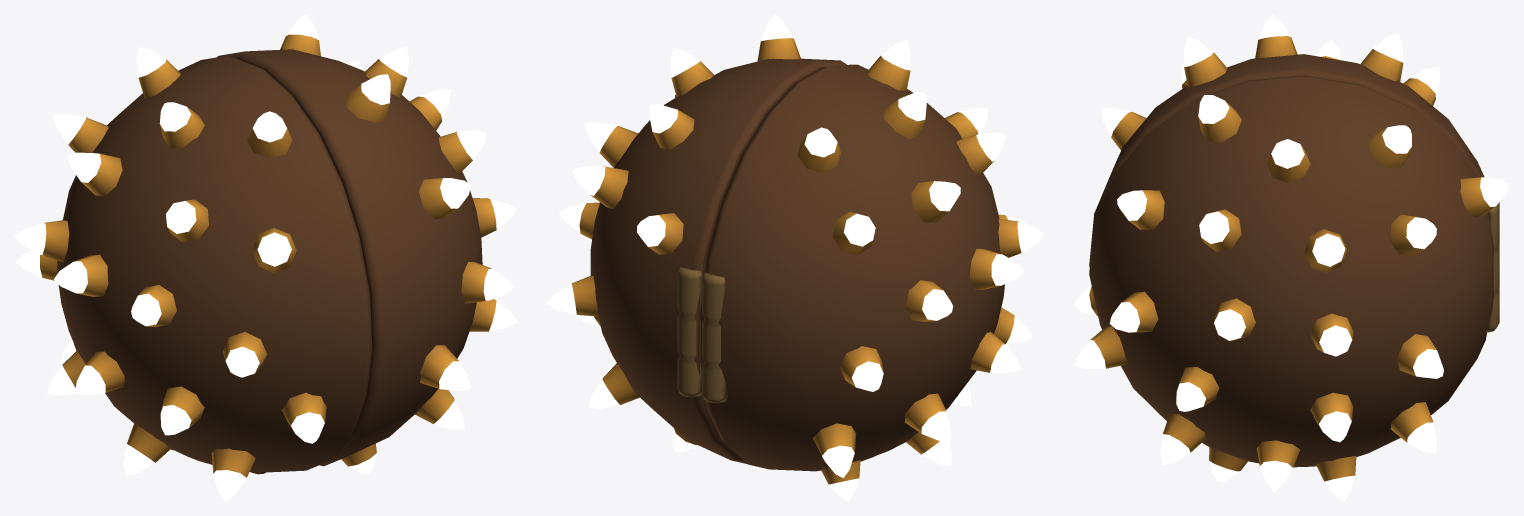
The model's file is kuri_roasted.glb.
3 renders of one model, left to right at view 1: azimuth 30°, elevation 25°; view 2: azimuth 150°, elevation 25°; view 3: azimuth 270°, elevation 25°, orthographic. The views are drawn at different scales.
Parts seen in each view (by area): view 1: bl, br; view 2: bl, br; view 3: br, bl.
Part boxes in pixels (x1,y1,x2,y2): bl: (14, 47, 372, 501); br: (217, 14, 517, 474); bl: (700, 40, 1044, 501); br: (546, 14, 846, 463); br: (1074, 76, 1509, 501); bl: (1073, 14, 1499, 316).
Bounding box in the file's own units: 1.07 × 0.9252 × 0.9254.
